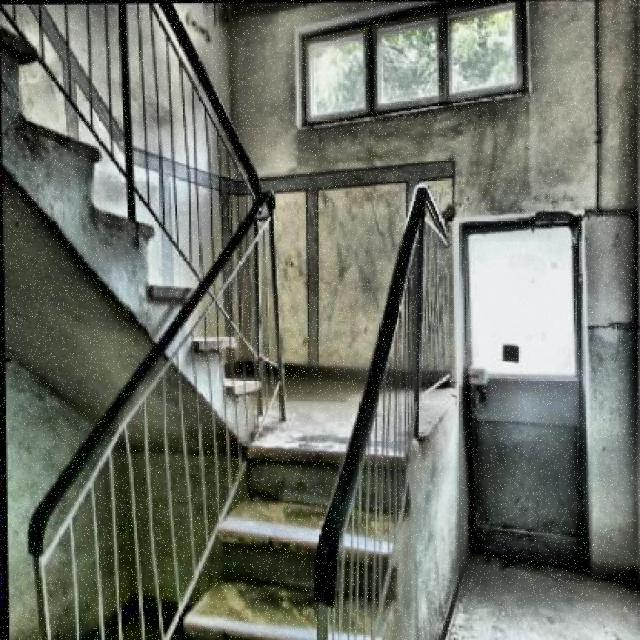stair: (170, 414, 404, 638)
